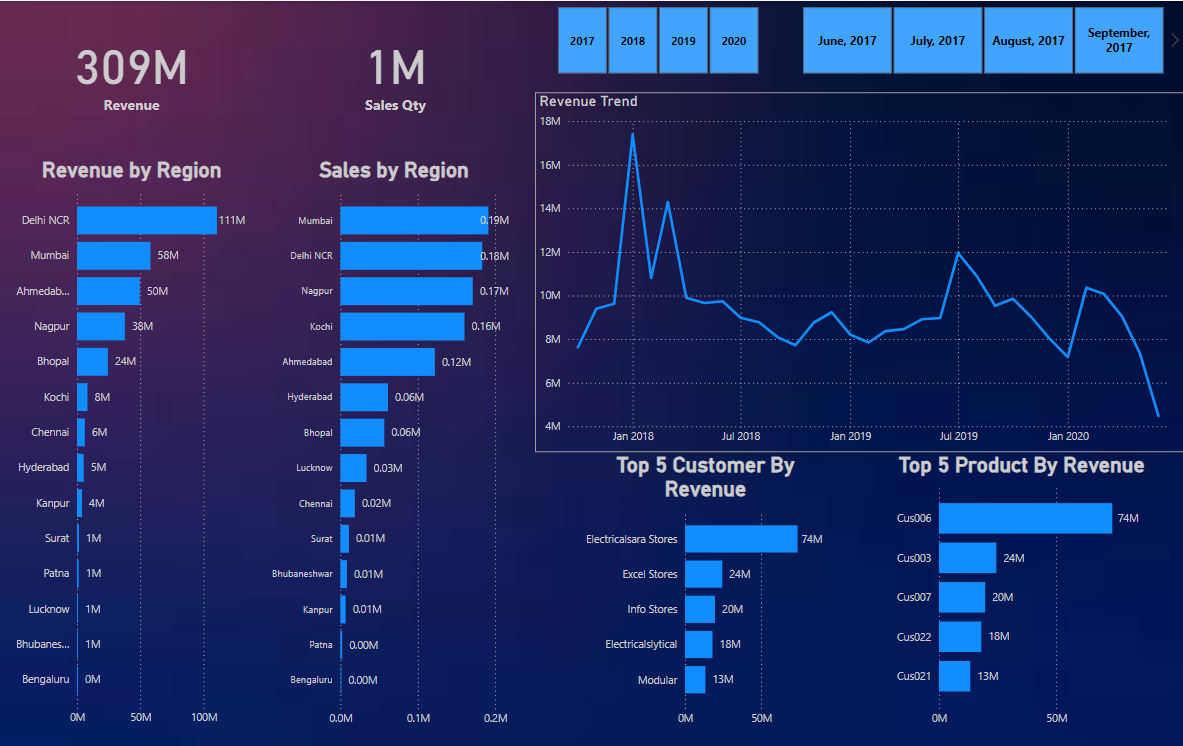

The page's visual inventory and layout, read from the dashboard file:
{"tool":"powerbi","page":{"name":"Region ","canvas":[1350,850],"ordinal":0},"visuals":[{"type":"card","title":"Total revenue ","fields":{"Values":["Base masures.Revenue"]},"box":[0,0,300.3,178.3],"z":0},{"type":"card","title":"Total revenue ","fields":{"Values":["Base masures.Sales Qty"]},"box":[300.3,0,300.3,178.3],"z":1000},{"type":"clusteredBarChart","title":"Revenue by Region","fields":{"Y":["Base masures.Revenue"],"Category":["markets.markets_name"]},"box":[0,178.3,300.3,672],"z":2000},{"type":"clusteredBarChart","title":"Sales by Region","fields":{"Y":["Sum(transactions.sales_qty)"],"Category":["markets.markets_name"]},"box":[299.8,178,299.8,672.6],"z":3000},{"type":"slicer","fields":{"Values":["date.year"]},"box":[610.2,0,278.5,89.8],"z":4000},{"type":"slicer","fields":{"Values":["date.cy_date"]},"box":[888.7,0,461.1,89],"z":5000},{"type":"clusteredBarChart","title":"Top 5 Customer By Revenue","fields":{"Y":["Base masures.Revenue"],"Category":["customers.custmer_name"]},"box":[653.2,514.3,300.3,336],"z":6000},{"type":"clusteredBarChart","title":"Top 5 Product By Revenue","fields":{"Y":["Base masures.Revenue"],"Category":["customers.customer_code"]},"box":[1013.6,514.3,300.3,336],"z":7000},{"type":"lineChart","title":"Revenue Trend","fields":{"Y":["Base masures.Revenue"],"Category":["date.cy_date.Variation.Date Hierarchy.Year","date.cy_date.Variation.Date Hierarchy.Quarter","date.cy_date.Variation.Date Hierarchy.Month","date.cy_date.Variation.Date Hierarchy.Day"]},"box":[610.2,103.5,739.5,410.8],"z":8000}]}

Visuals, with their boxes in screenshot pixels (x1, y1, x2, y2), scaled from the page's 1350x850 canvas onto the 1183x746 screenshot:
"Total revenue " card: l=0, t=0, r=263, b=156
"Total revenue " card: l=263, t=0, r=526, b=156
"Revenue by Region" clusteredBarChart: l=0, t=156, r=263, b=745
"Sales by Region" clusteredBarChart: l=263, t=156, r=525, b=745
slicer - date.year: l=535, t=0, r=779, b=79
slicer - date.cy_date: l=779, t=0, r=1182, b=78
"Top 5 Customer By Revenue" clusteredBarChart: l=572, t=451, r=836, b=745
"Top 5 Product By Revenue" clusteredBarChart: l=888, t=451, r=1151, b=745
"Revenue Trend" lineChart: l=535, t=91, r=1182, b=451
